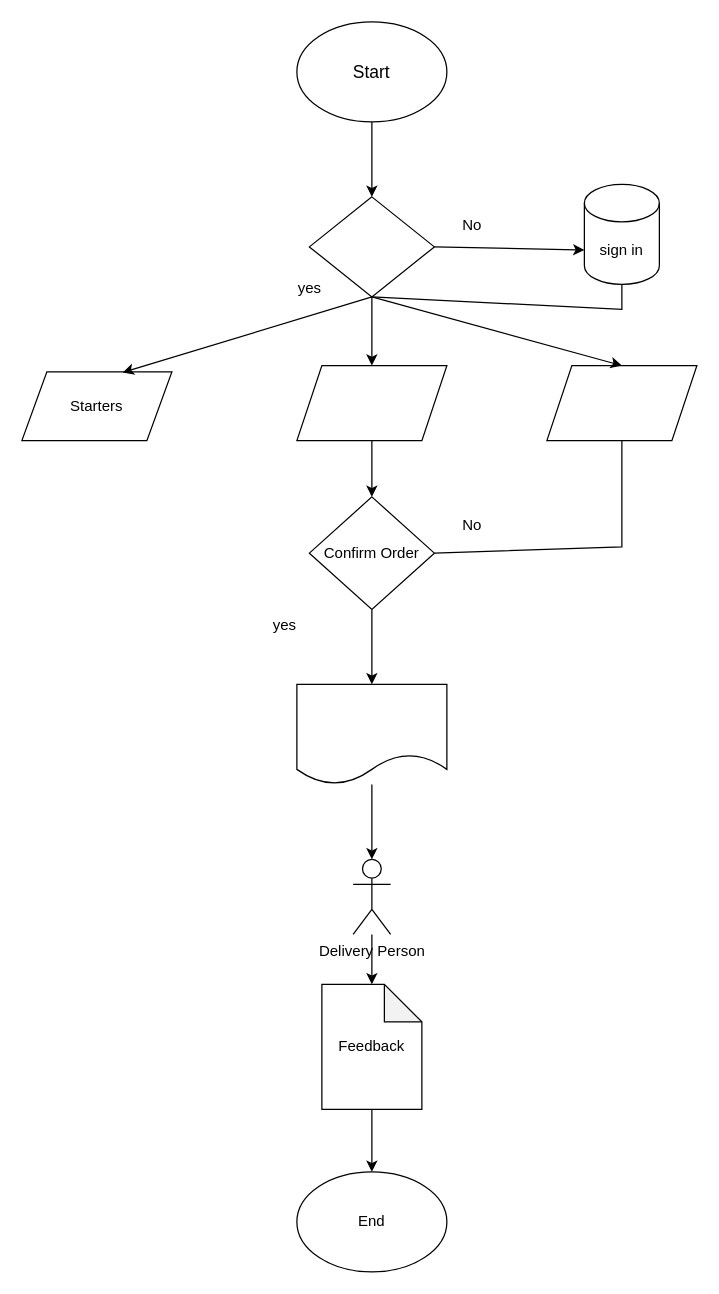
The diagram is 719 pixels wide and 1294 high, and some of its shapes have lost their labels. The shapes that lost their labels are listed below. From the top down, each one's box as (x1, y1, x2, y2) in pixels, then its label:
(308, 196, 434, 297): Login
(296, 364, 447, 441): Briyanii
(546, 364, 697, 441): Desserts
(296, 683, 447, 784): Payment
